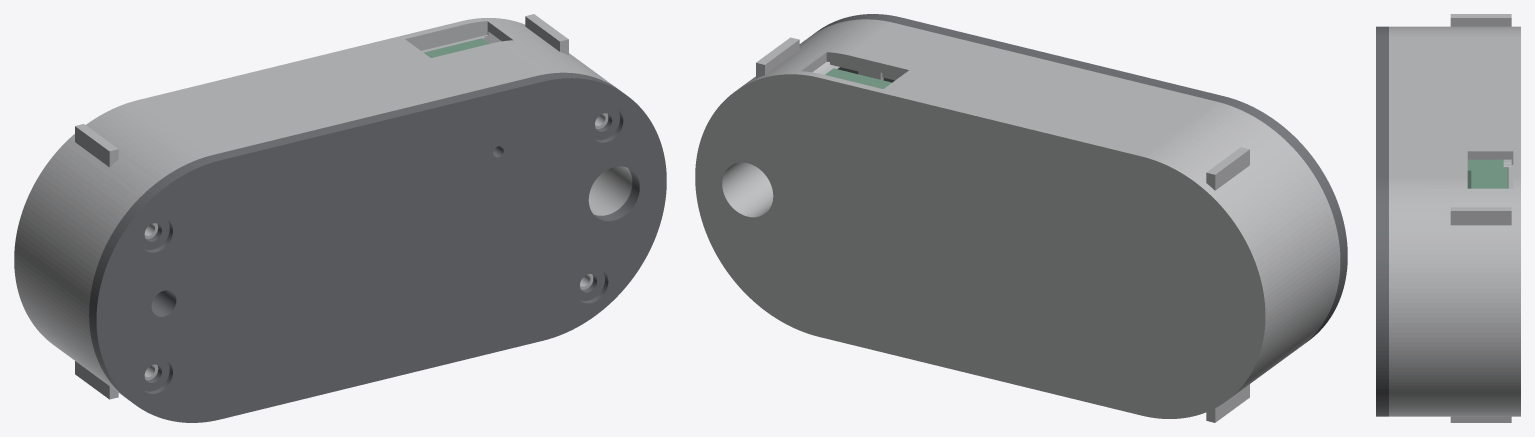
File: v07_fit_check.glb
The picture shows the model from 3 angles, left to right: view 1: azimuth 30°, elevation 25°; view 2: azimuth 150°, elevation 25°; view 3: azimuth 270°, elevation 25°; orthographic projection. The views are drawn at different scales.
Visible parts, largest first — view 1: lid, base; view 2: base, lid; view 3: base, lid, C&K OS102011MA1QN1 hard-off switch, BBM protected 602535 500 mAh pack.
Part boxes in pixels (<box>): lid: <box>89,72,666,422</box>; base: <box>14,14,632,399</box>; base: <box>695,19,1340,422</box>; lid: <box>813,14,1347,343</box>; base: <box>1389,14,1520,422</box>; lid: <box>1376,26,1388,416</box>; C&K OS102011MA1QN1 hard-off switch: <box>1471,168,1507,188</box>; BBM protected 602535 500 mAh pack: <box>1467,159,1503,188</box>.
Size of the model in its own units: 75.99 by 33 by 19.
